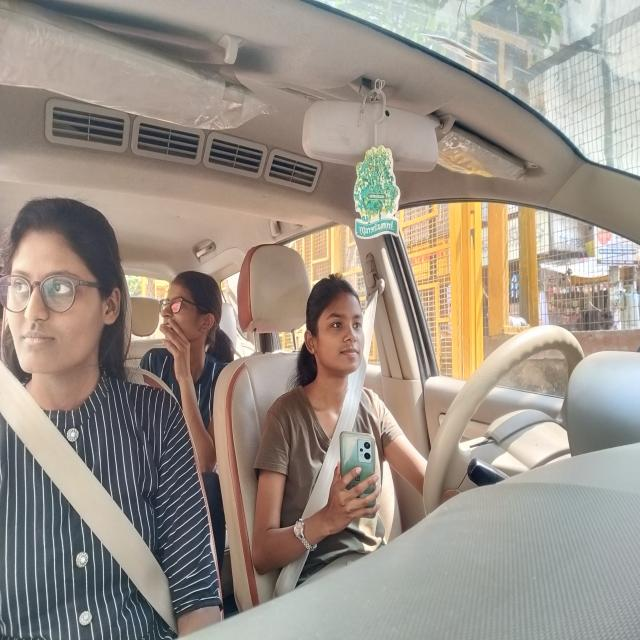mobile: (335, 430, 384, 512)
person: (9, 214, 117, 374), (308, 277, 372, 382), (161, 268, 213, 348)
